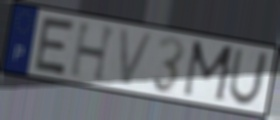3: (150, 35, 189, 96)
E: (31, 15, 78, 78)
H: (68, 21, 119, 85)
M: (180, 39, 238, 105)
U: (226, 47, 270, 108)
V: (117, 26, 157, 89)
